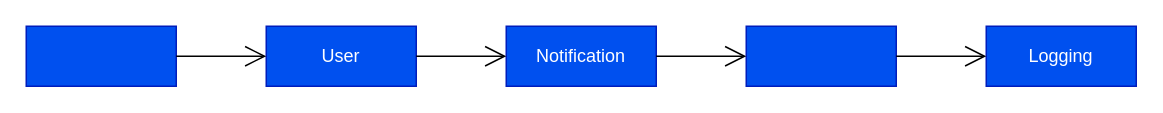
The diagram is 1163 pixels wide and 113 high, and some of its shapes have lost their labels. The centre of each missing label's shape, as x and y in pixels:
"AI" belongs at (820,55).
"Event" belongs at (100,55).
